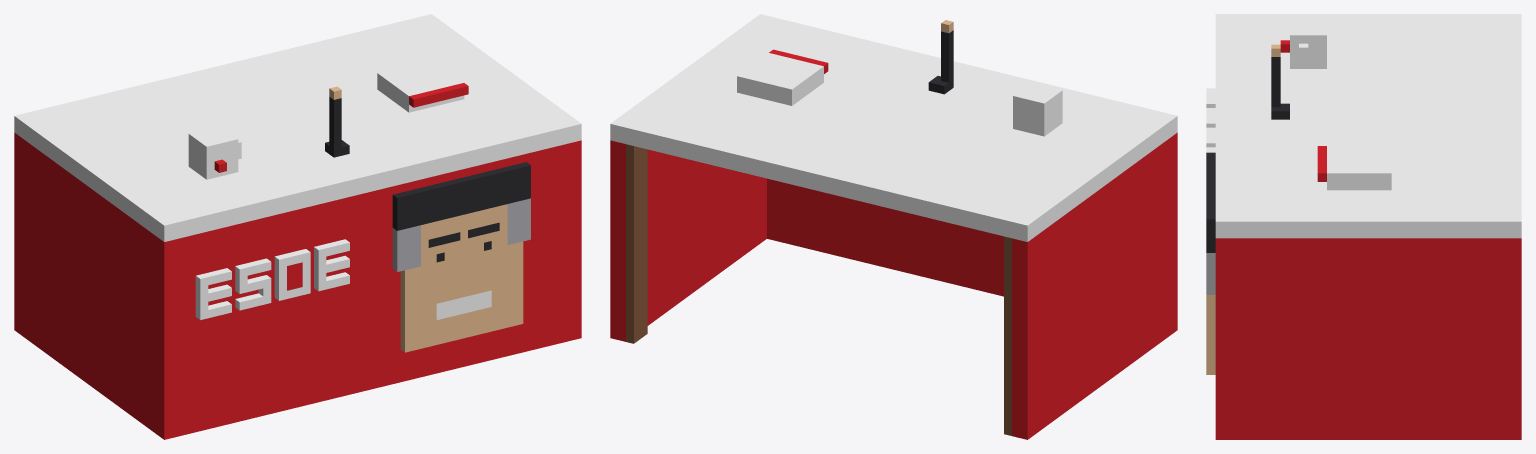
Rendered from mesa_mitin_esoe.obj.
The picture shows the model from 3 angles, left to right: view 1: azimuth 30°, elevation 25°; view 2: azimuth 150°, elevation 25°; view 3: azimuth 270°, elevation 25°; orthographic projection.
Size of the model in its own units: 5.3 by 3.4 by 3.4.
1 material, 1 textured.
